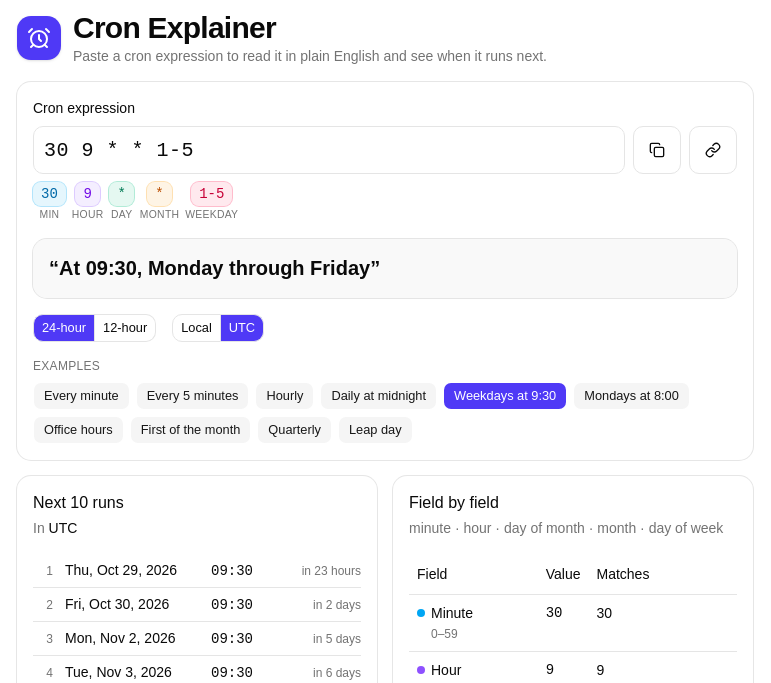
Test case: explaining › shows notes for surprising schedules
The width and height of the screenshot is (771, 683).
In the field labelled "Cron expression": (329, 150) [33,126,625,174], type "*/7 * 1 * MON"
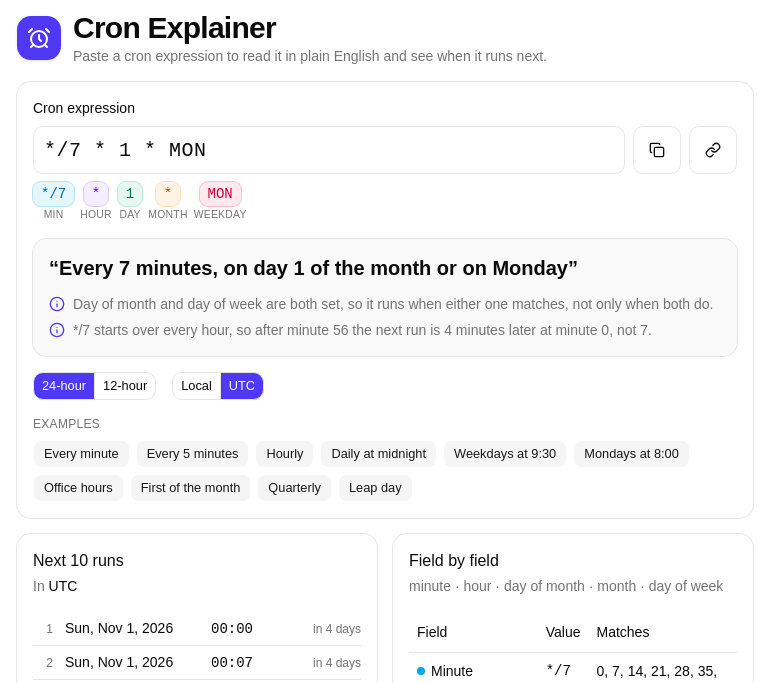
expect the list items read "Day of month and day of week are both set, so it runs when either one matches, not only when both do.", "*/7 starts over every hour, so after minute 56 the next run is 4 minutes later at minute 0, not 7.", in this order: met, box [49,294,721,314]; [49,320,721,340]
